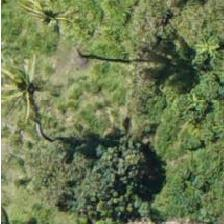coconut_tree: (0, 32, 69, 122), (7, 0, 97, 62)
